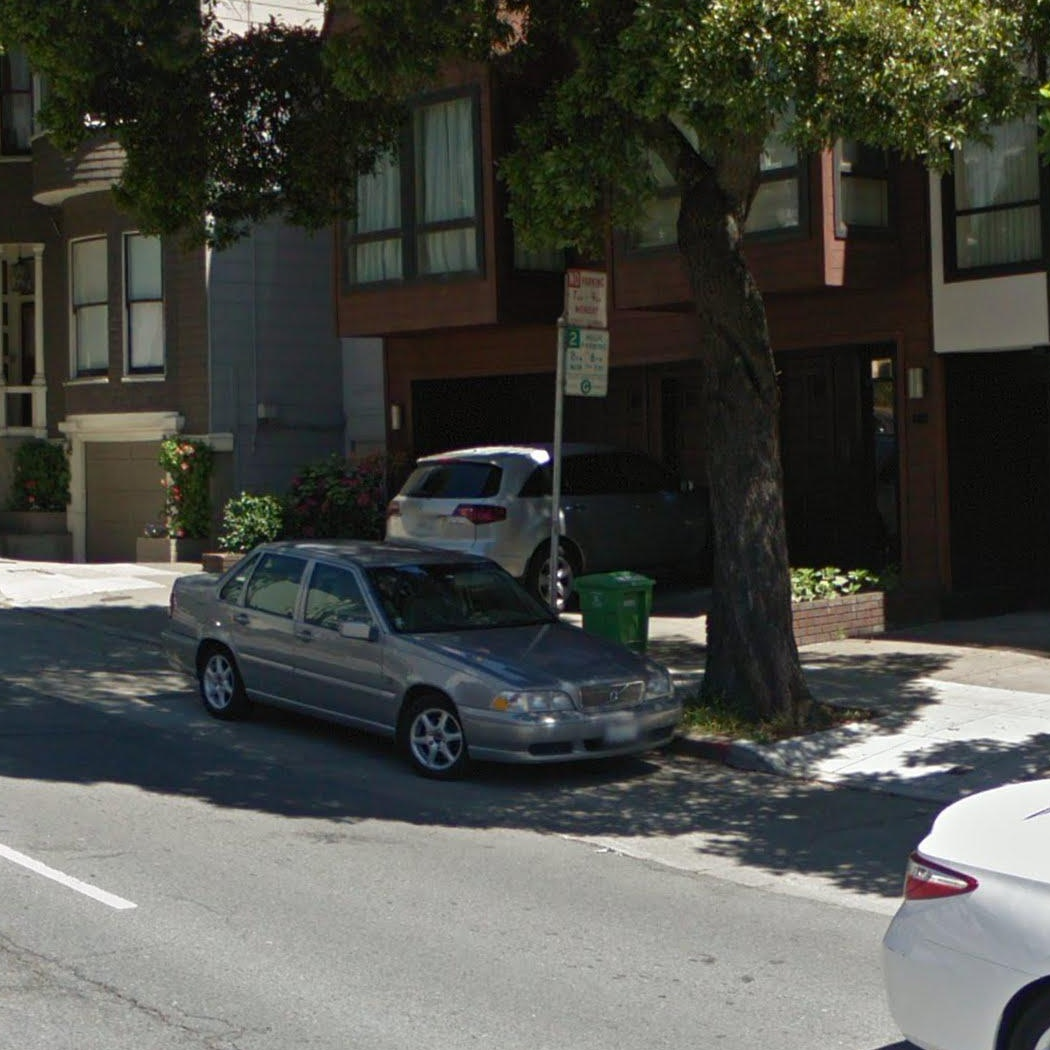2 Hour Parking: (562, 328, 610, 397)
No Parking: (564, 269, 608, 328)
